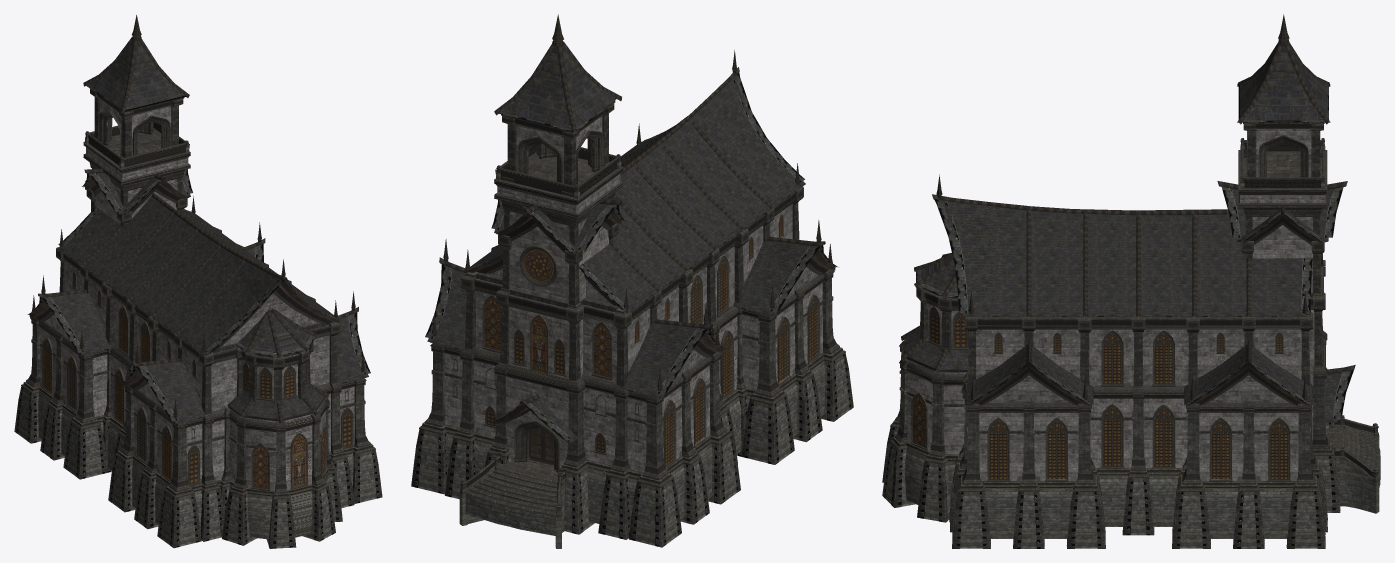
The model's file is eso_gu1_LargeChurch-transformed.glb.
The picture shows the model from 3 angles, left to right: view 1: azimuth 30°, elevation 25°; view 2: azimuth 150°, elevation 25°; view 3: azimuth 270°, elevation 25°; orthographic projection. The views are drawn at different scales.
Visible parts, largest first — view 1: default; view 2: default; view 3: default.
Part boxes in pixels (x1,y1,x2,y2): default: [14, 15, 382, 548]; default: [411, 14, 853, 548]; default: [882, 14, 1380, 548].
Bounding box in the file's own units: 41.95 × 71.68 × 68.04.
13 materials, 13 textured.
